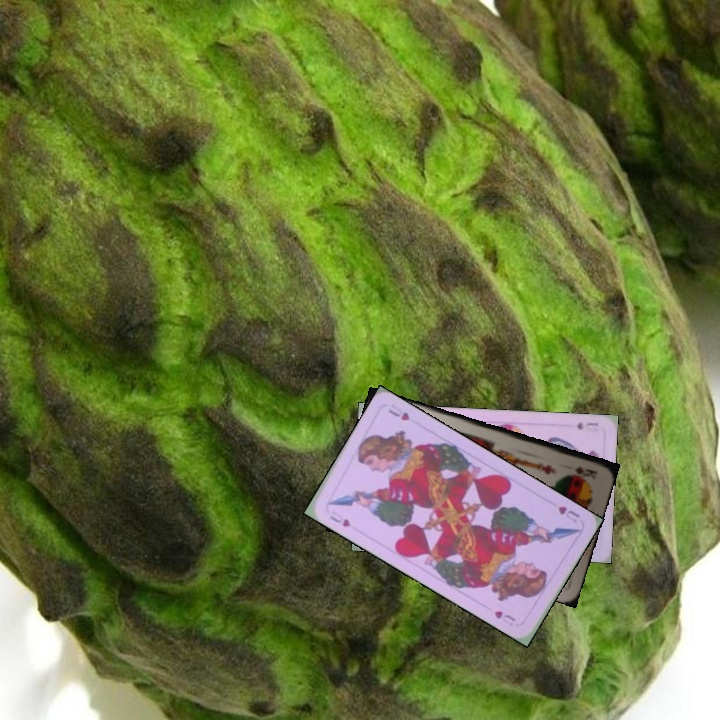HU: (554, 502, 582, 525), (326, 507, 353, 530)
SK: (571, 462, 600, 481)
SU: (572, 418, 601, 432)
